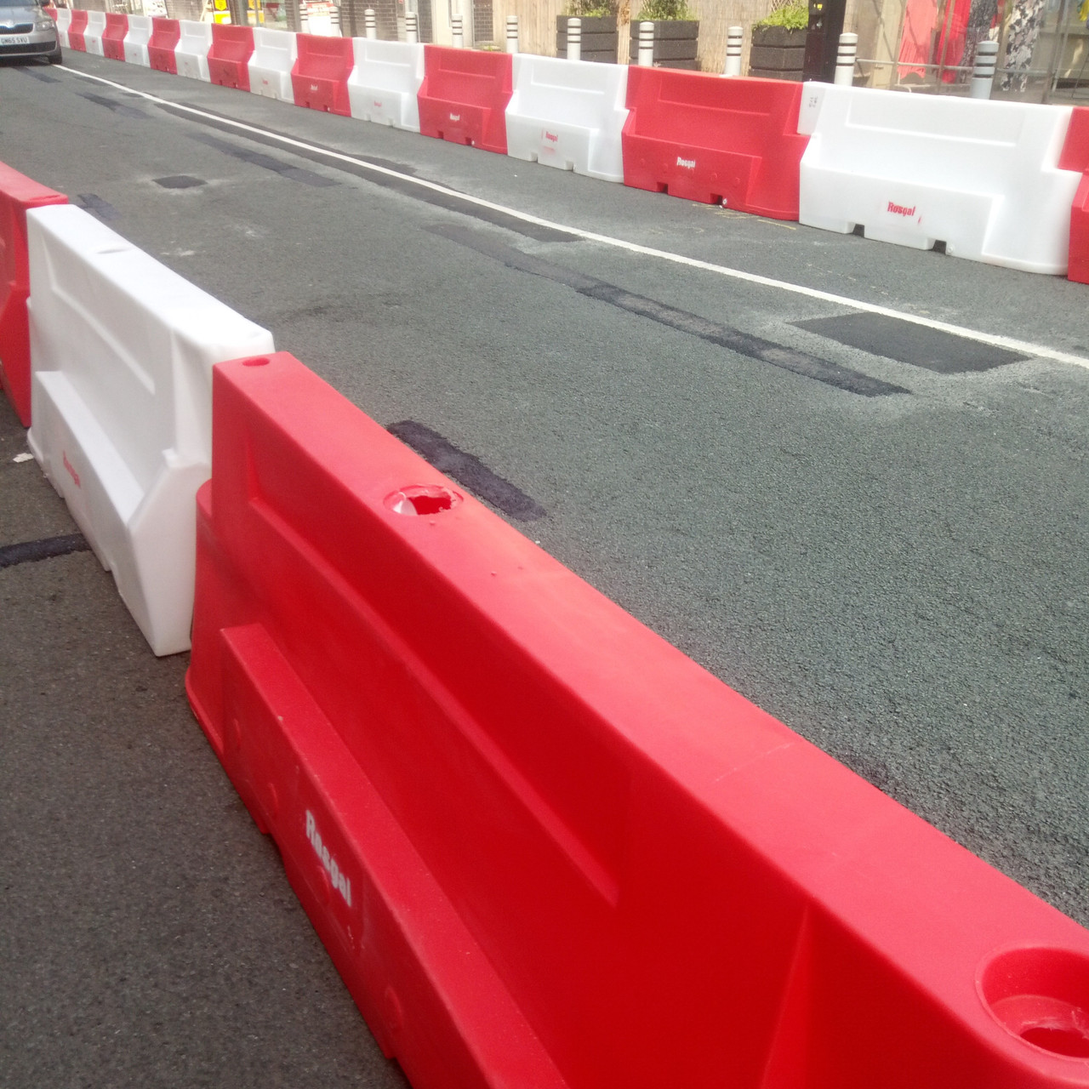Barrier: (37, 214, 998, 1058), (151, 17, 1088, 284)
